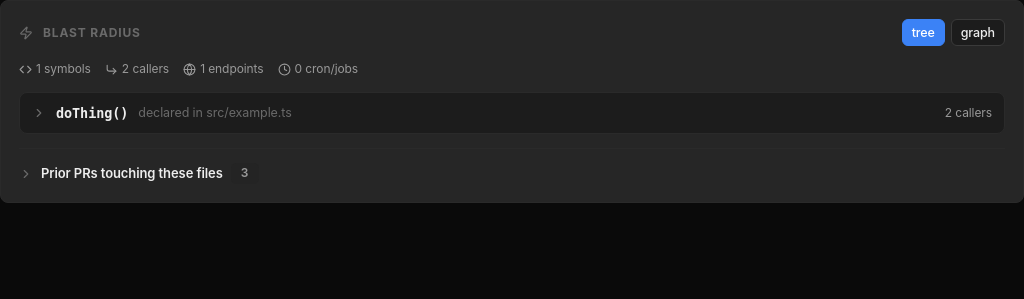
Test case: BlastRadiusPanel › starts the prior-PRs row collapsed, expands it to reveal links and ages, then collapses it again
The width and height of the screenshot is (1024, 299).
Expected: the text "3" is shown, [231, 163, 258, 184]
Expected: the text "Refactor auth module" is not shown
Click the button "Prior PRs touching these files 3".
click(132, 173)  # box [19, 163, 1005, 184]
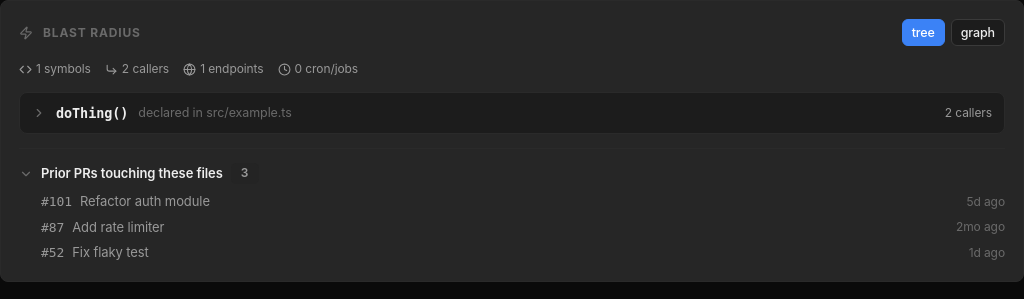
Now the button "Prior PRs touching these files 3" is expanded
Now the text "Refactor auth module" is shown, box [80, 192, 210, 212]
Now the text "Add rate limiter" is shown, box [72, 218, 164, 237]
Click the button "Prior PRs touching these files 3".
click(132, 173)  # box [19, 163, 1005, 184]
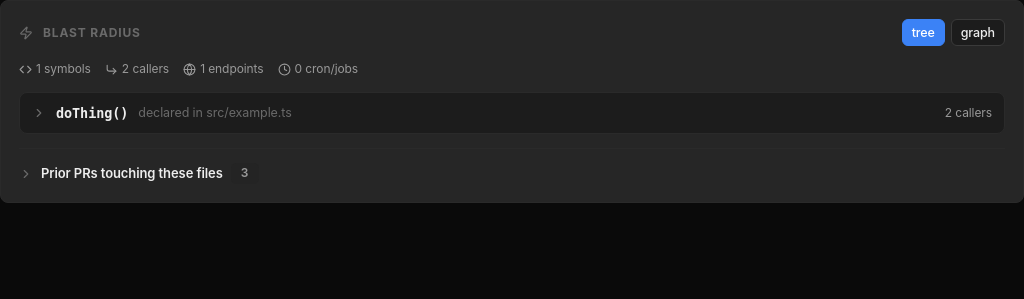
Now the button "Prior PRs touching these files 3" is collapsed, box [19, 163, 1005, 184]
Now the link "Refactor auth module" is gone
Now the link "Add rate limiter" is gone
